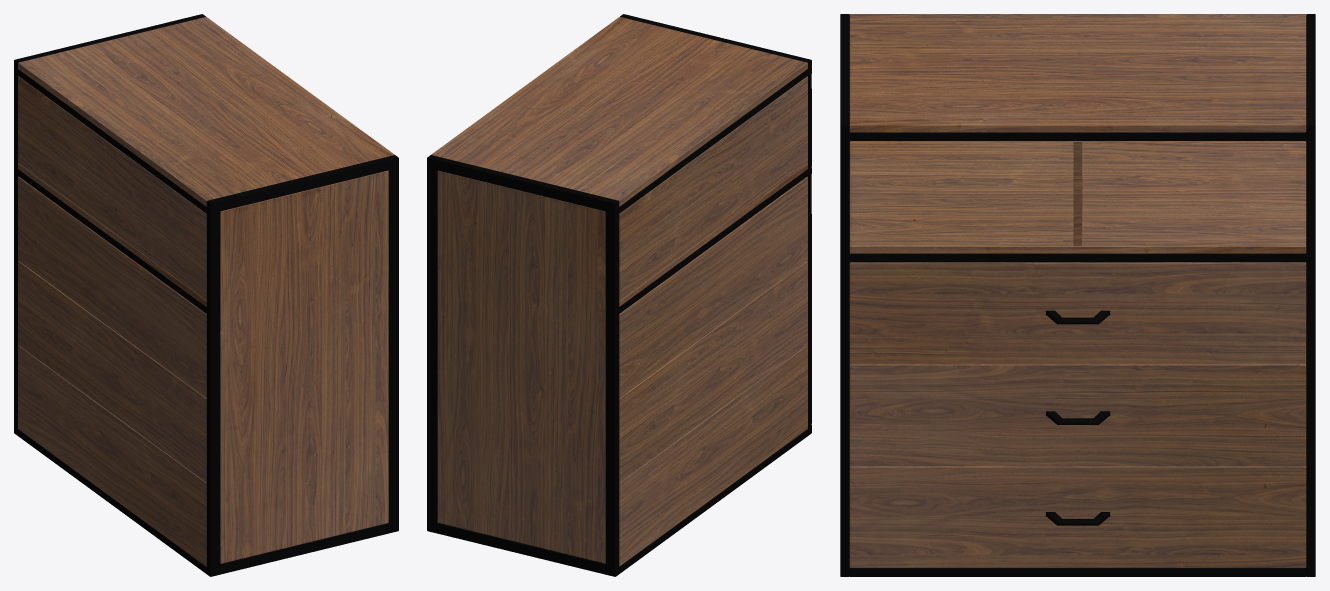
The model's file is mediaunit.glb.
The picture shows the model from 3 angles, left to right: view 1: azimuth 30°, elevation 25°; view 2: azimuth 150°, elevation 25°; view 3: azimuth 270°, elevation 25°; orthographic projection. The views are drawn at different scales.
Parts seen in each view (by area): view 1: wood, metal; view 2: wood, metal; view 3: wood, metal.
Boxes of the visible parts, box(x1,y1,x2,y2) form: wood: box(18, 17, 394, 566); metal: box(14, 14, 398, 576); wood: box(431, 17, 807, 566); metal: box(427, 14, 811, 576); wood: box(849, 14, 1306, 567); metal: box(840, 14, 1315, 576).
Size of the model in its own units: 0.6558 by 1.14 by 1.08.
2 materials, 1 textured.
